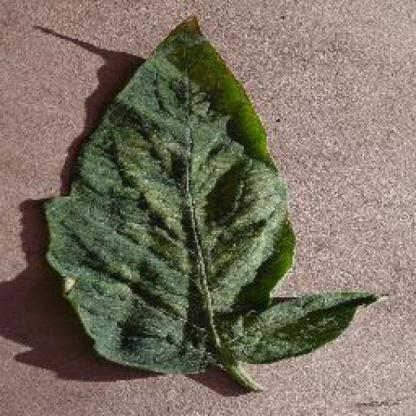Tomato_Spider_Mites: (46, 15, 389, 372)
